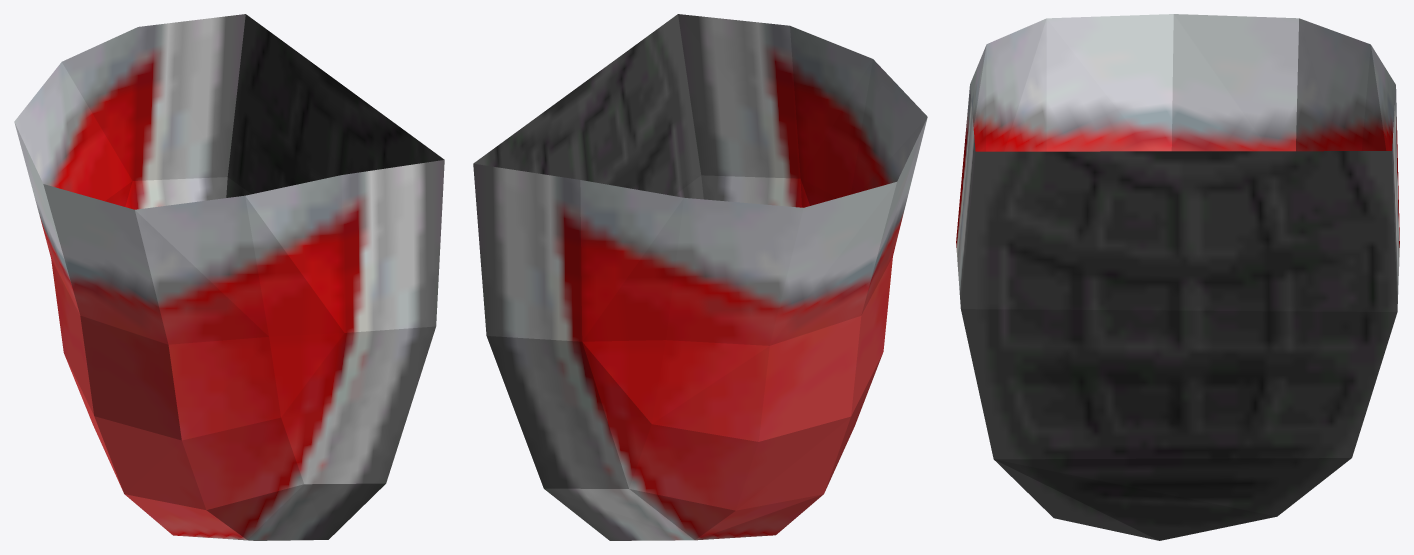
3 views of the same model, side by side, from view 1: azimuth 30°, elevation 25°; view 2: azimuth 150°, elevation 25°; view 3: azimuth 270°, elevation 25° (orthographic). The views are drawn at different scales.
Parts seen in each view (by area): view 1: mesh_04844666EE36D28E; view 2: mesh_04844666EE36D28E; view 3: mesh_04844666EE36D28E.
Part boxes in pixels (x1,y1,x2,y2): mesh_04844666EE36D28E: (14, 14, 444, 540); mesh_04844666EE36D28E: (473, 14, 927, 540); mesh_04844666EE36D28E: (956, 14, 1399, 540).
Size of the model in its own units: 1.25 by 1.68 by 1.49.
